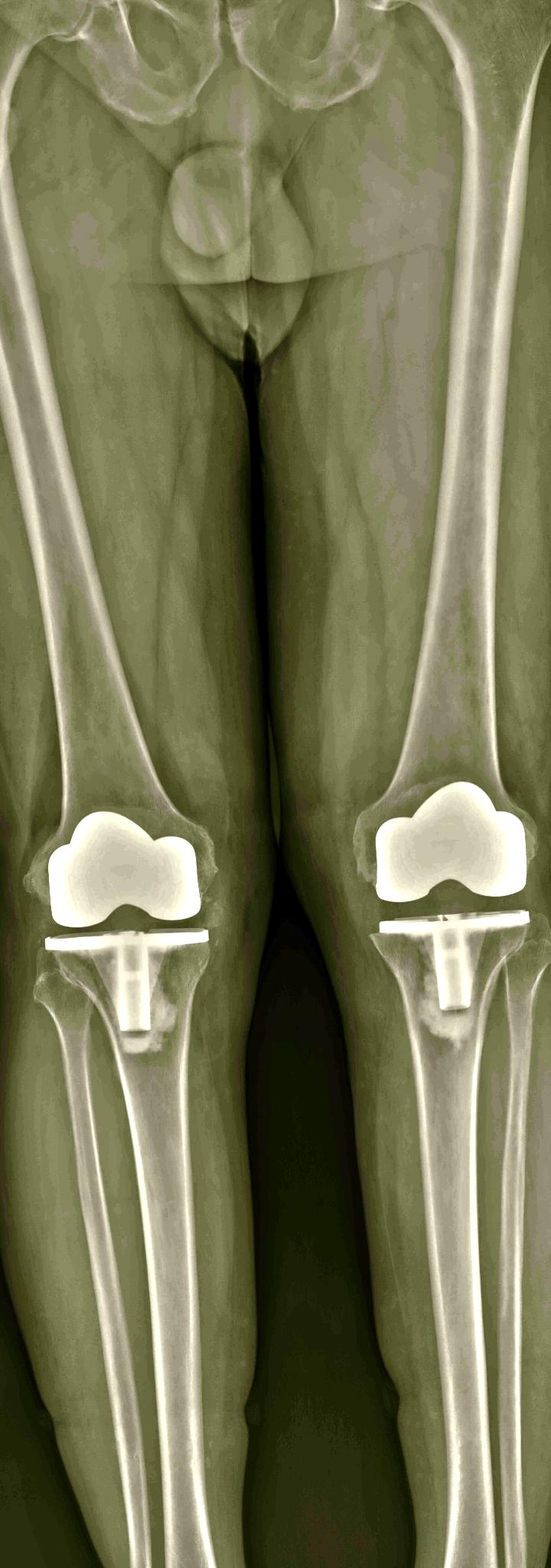Leg Fibula: (35, 959, 151, 1568), (501, 939, 551, 1568)
Leg Tibia: (52, 931, 215, 1568), (371, 911, 529, 1568)
femur: (0, 0, 217, 928), (354, 0, 551, 903)
